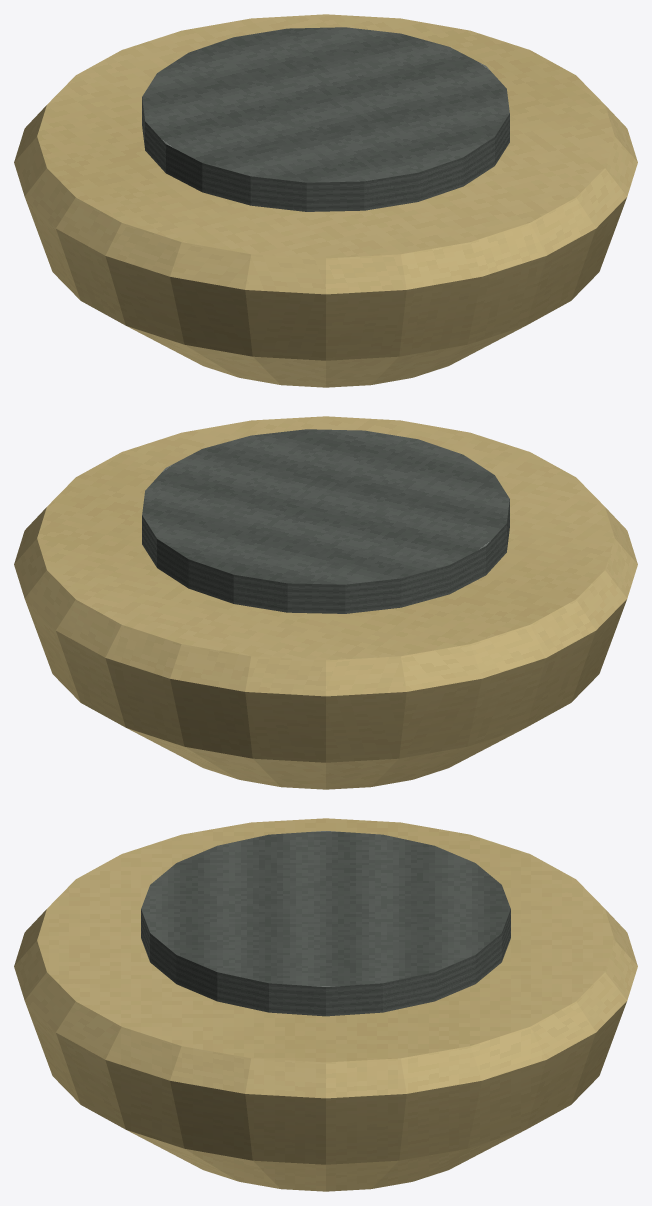
The model's file is level_domestic_light.glb.
The picture shows the model from 3 angles, top to bottom: view 1: azimuth 30°, elevation 25°; view 2: azimuth 150°, elevation 25°; view 3: azimuth 270°, elevation 25°; orthographic projection.
Visible parts, largest first — view 1: level_domestic_light; view 2: level_domestic_light; view 3: level_domestic_light.
Part boxes in pixels (x1,y1,x2,y2): level_domestic_light: (14,14,637,387); level_domestic_light: (14,416,637,789); level_domestic_light: (14,818,637,1191).
Bounding box in the file's own units: 0.54 × 0.23 × 0.54.
2 materials, 2 textured.
